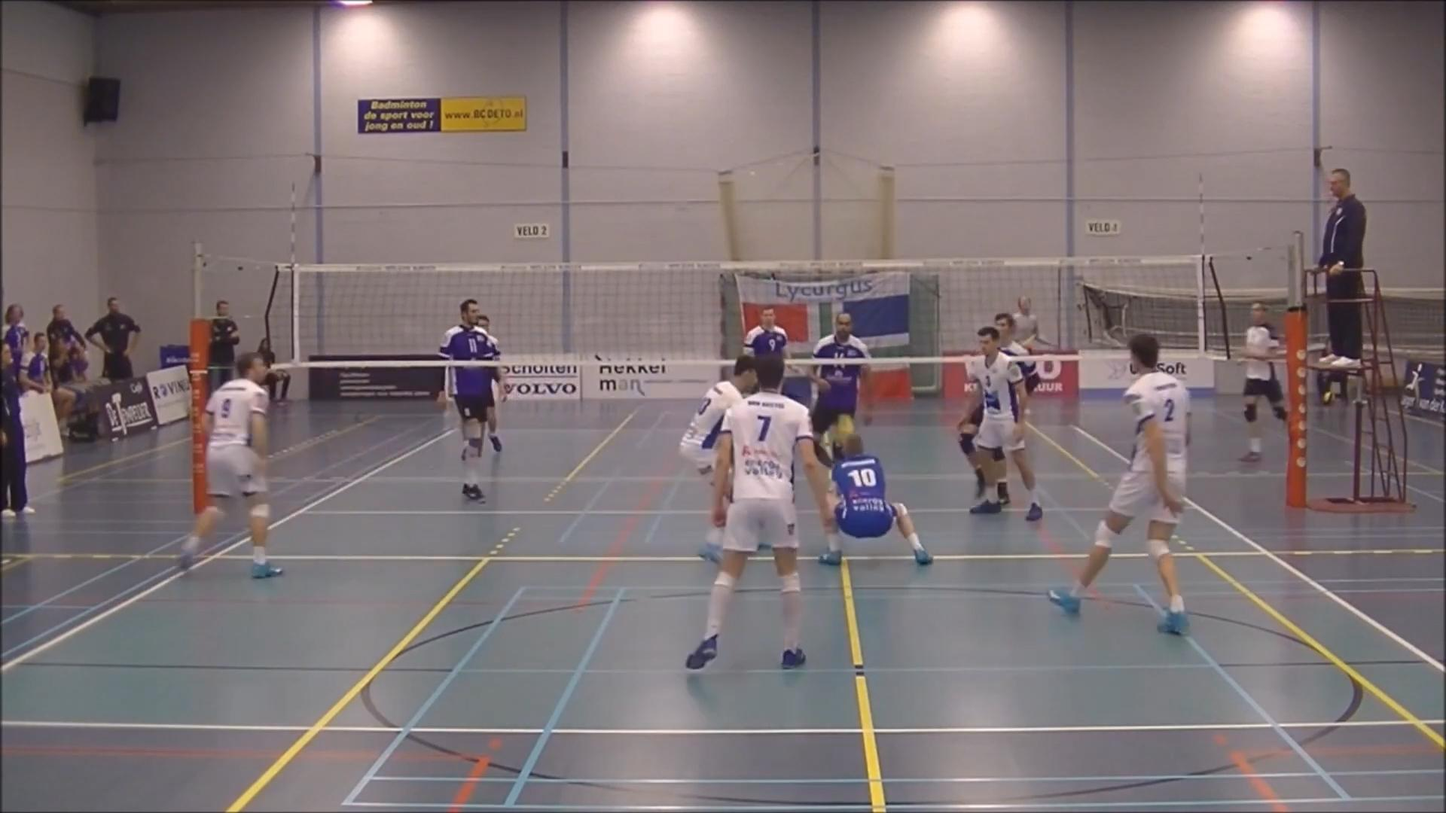difesa: (818, 431, 939, 568)
